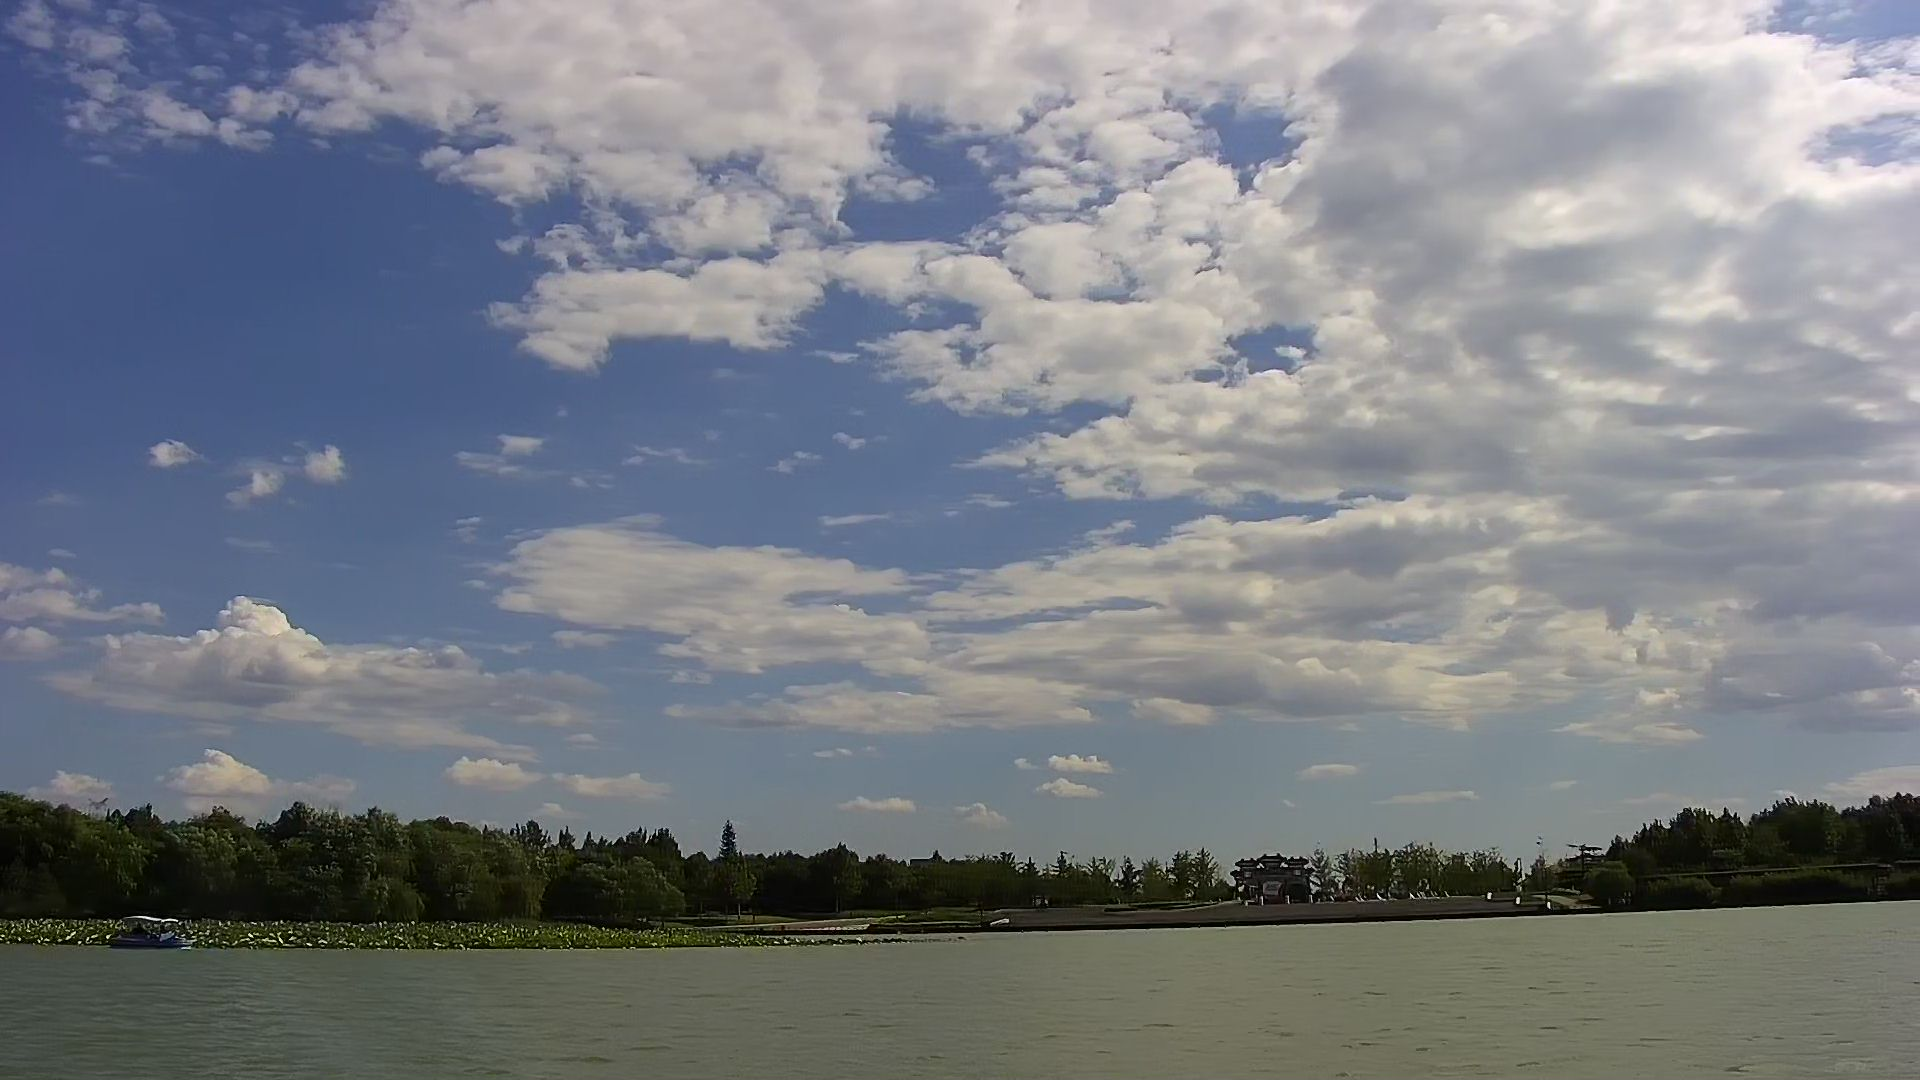boat: (104, 907, 196, 955)
harbor: (982, 885, 1615, 935)
